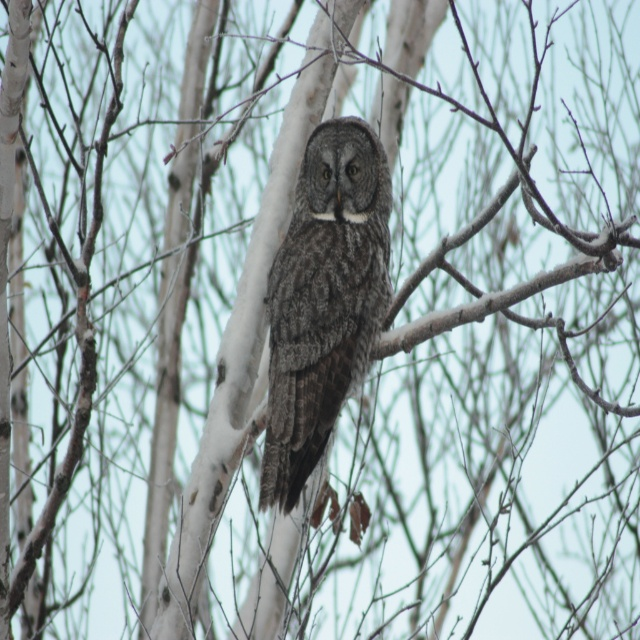Owl: (254, 113, 396, 514)
